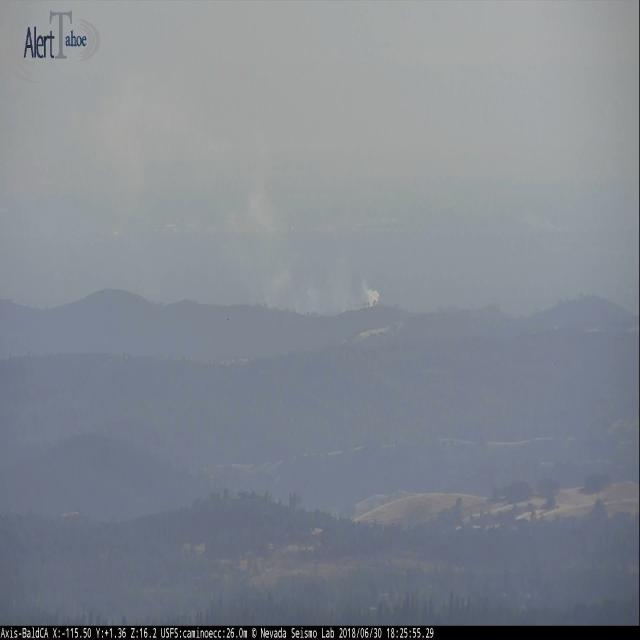smoke: (316, 255, 379, 306), (528, 211, 568, 232)
